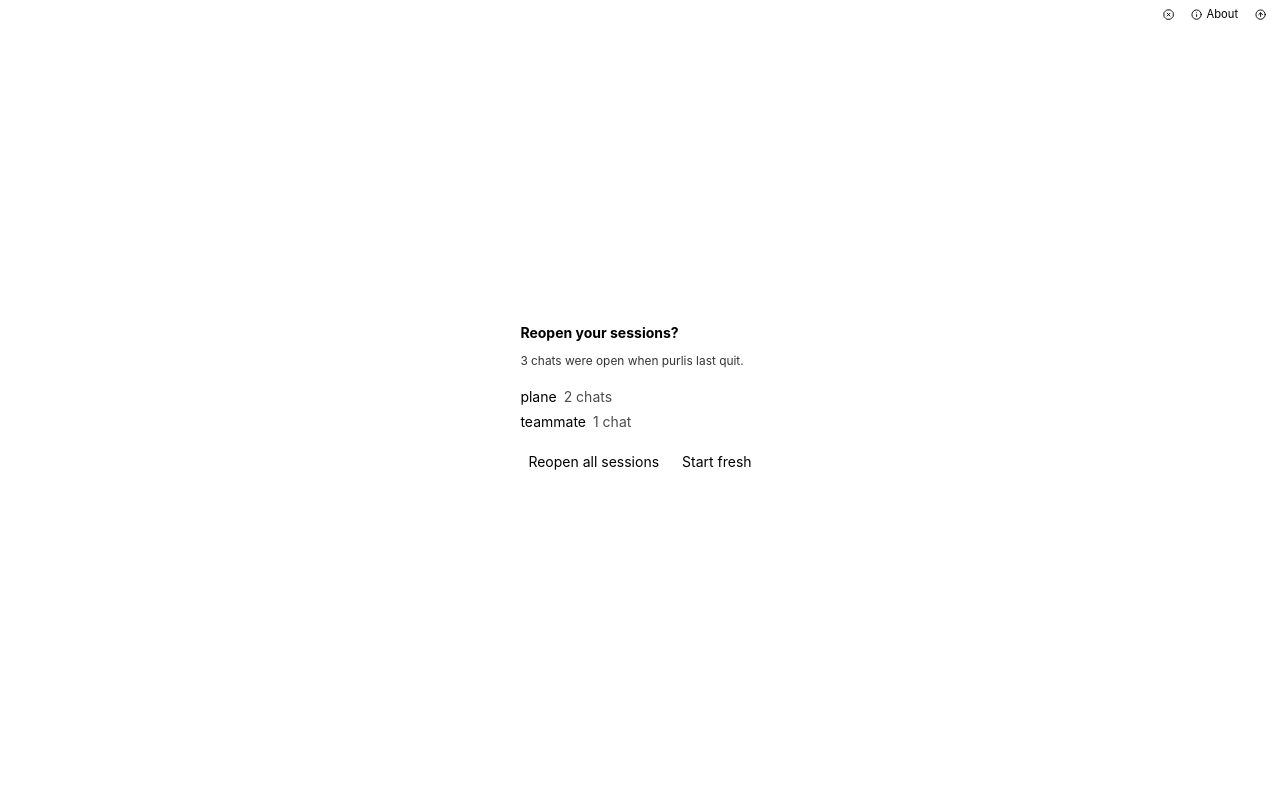
Test: a relaunch (#1078) › costs two prompts when it reopens every chat: the question and a project's trust
Click the button "Reopen all sessions" at [594, 463], box [520,449,667,477]
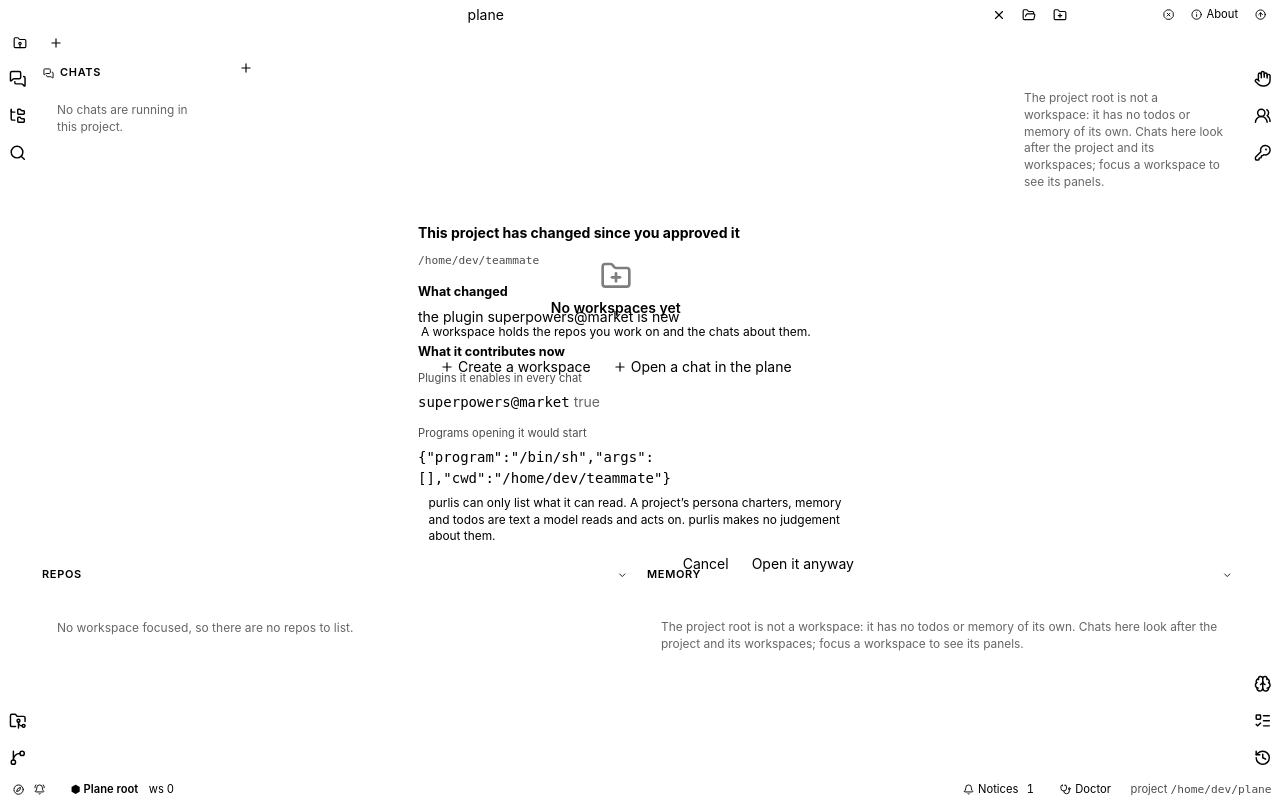
Click the button "Open it anyway" at [803, 564], box [744,550,862,578]
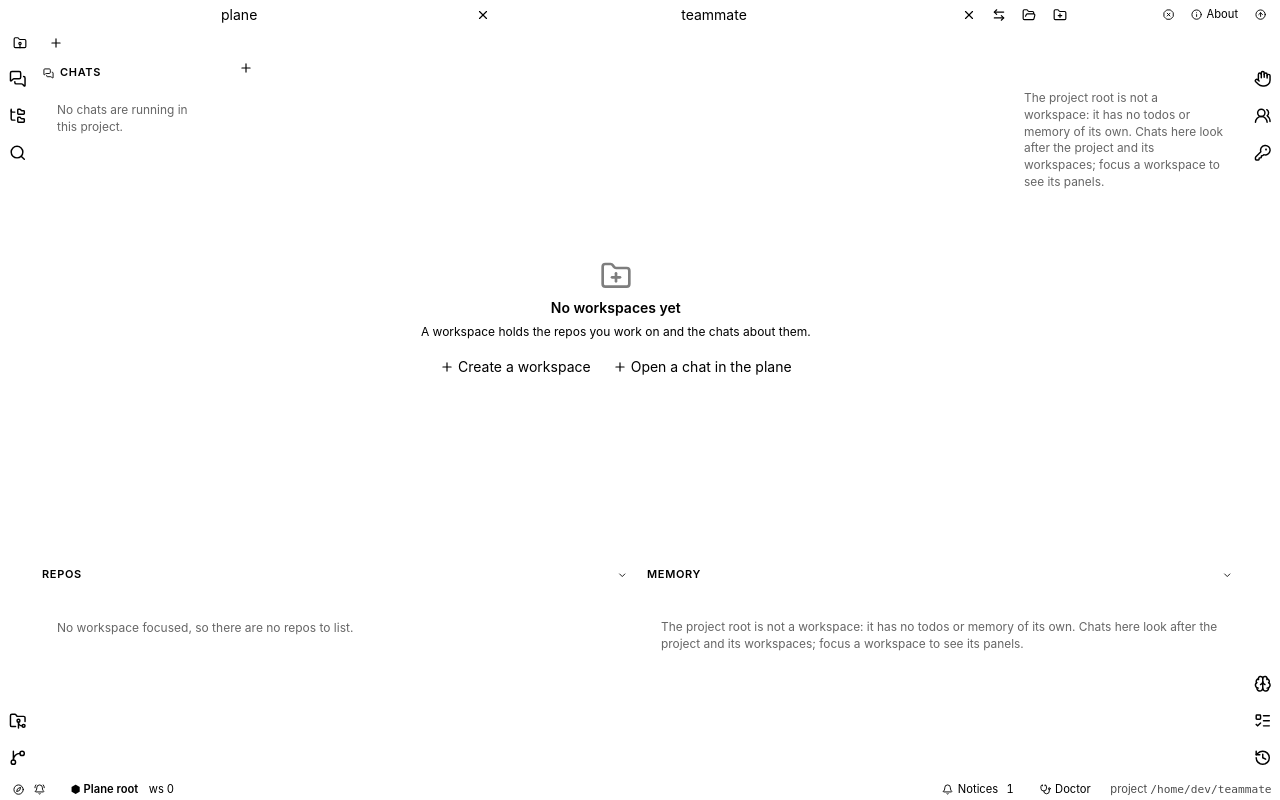
Check: the dialog is gone
